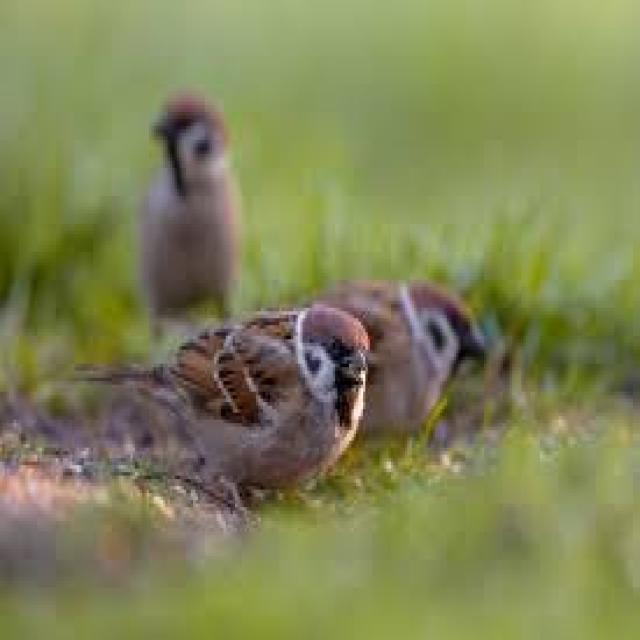bird: (68, 300, 379, 504), (259, 274, 484, 436), (131, 87, 247, 326)
